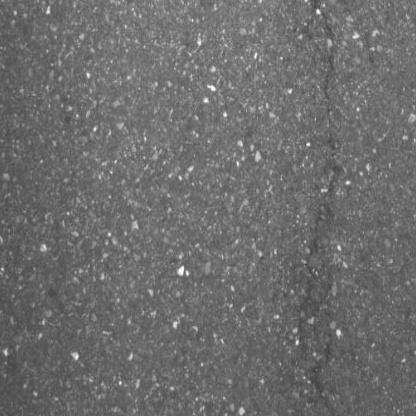Cracks: (294, 0, 343, 351), (308, 342, 336, 416)
